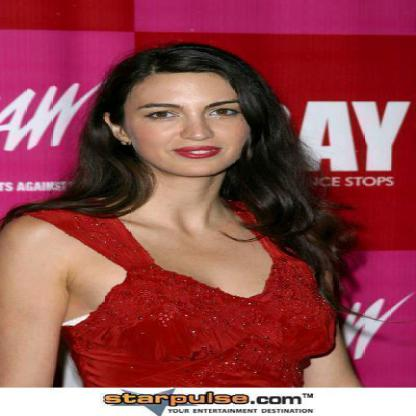long-hair: (51, 176, 337, 215)
